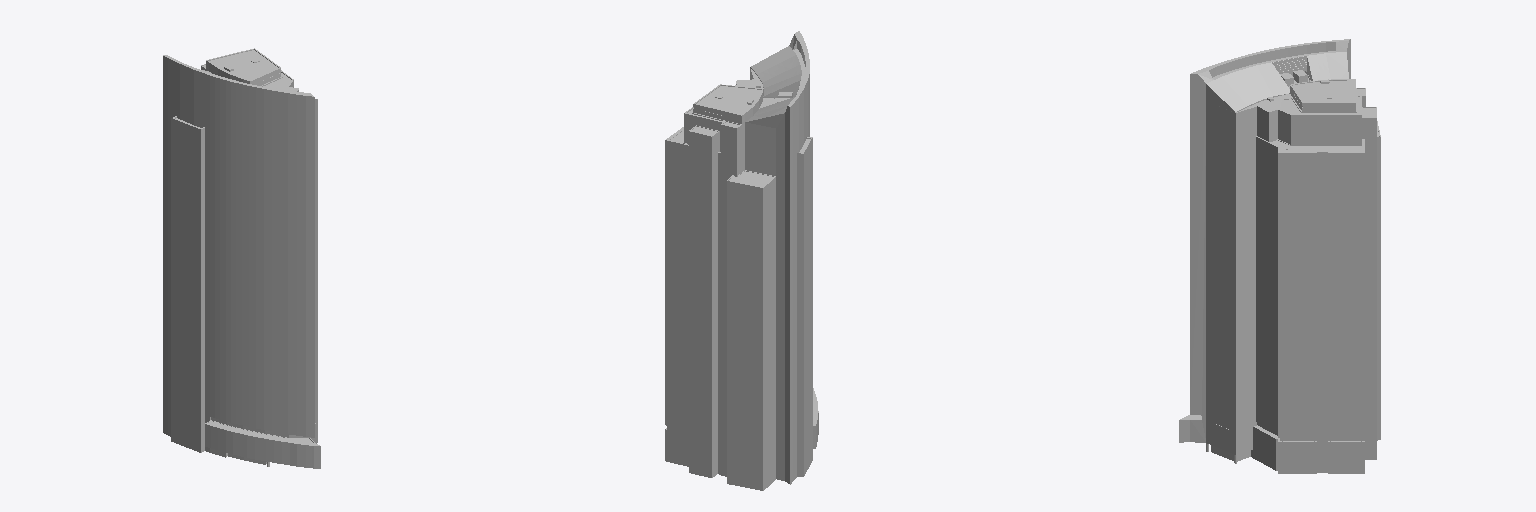
The model's file is northwesternmutual.obj.
3 views of the same model, side by side, from view 1: azimuth 30°, elevation 25°; view 2: azimuth 150°, elevation 25°; view 3: azimuth 270°, elevation 25° (orthographic).
Parts seen in each view (by area): view 1: Cube; view 2: Cube; view 3: Cube.
Part boxes in pixels (x1,y1,x2,y2): Cube: (163, 48, 320, 468); Cube: (665, 31, 818, 490); Cube: (1179, 39, 1380, 473).
Size of the model in its own units: 5522 by 16570 by 8029.